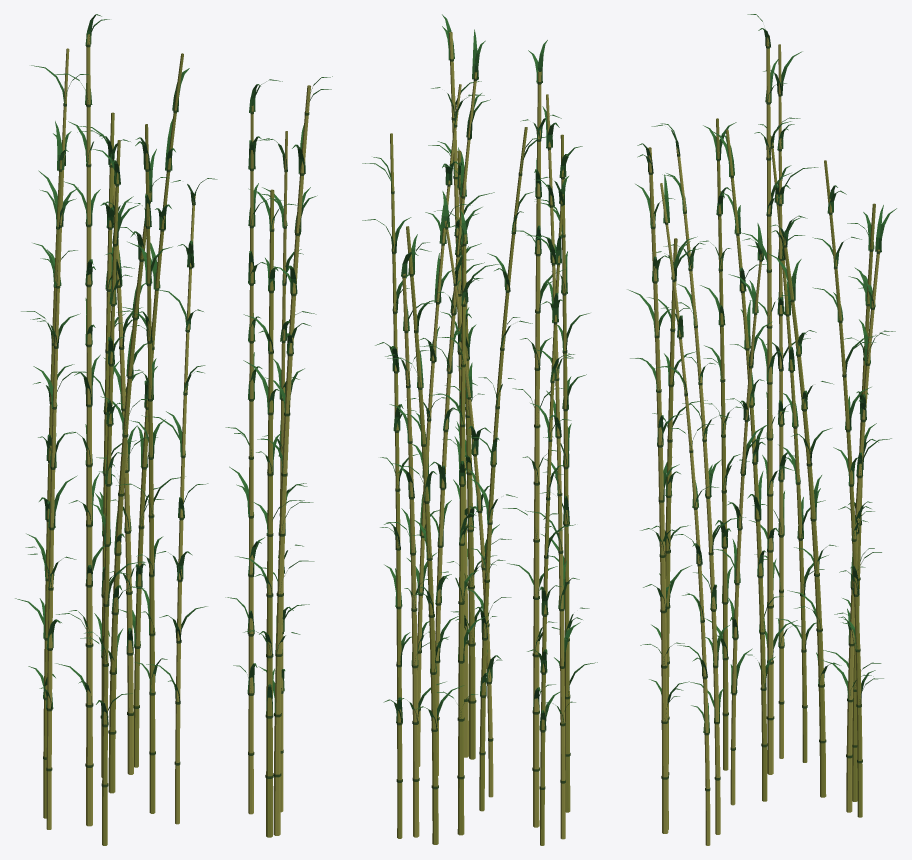
File: bamboo_stand_v2.glb
3 renders of one model, left to right at view 1: azimuth 30°, elevation 25°; view 2: azimuth 150°, elevation 25°; view 3: azimuth 270°, elevation 25°, orthographic. The views are drawn at different scales.
Parts seen in each view (by area): view 1: bamboo_stand_v2; view 2: bamboo_stand_v2; view 3: bamboo_stand_v2.
Part boxes in pixels (x1,y1,x2,y2): bamboo_stand_v2: (15,14,332,845); bamboo_stand_v2: (362,14,597,845); bamboo_stand_v2: (627,14,896,845).
Bounding box in the file's own units: 1.82 × 6.12 × 1.98.
